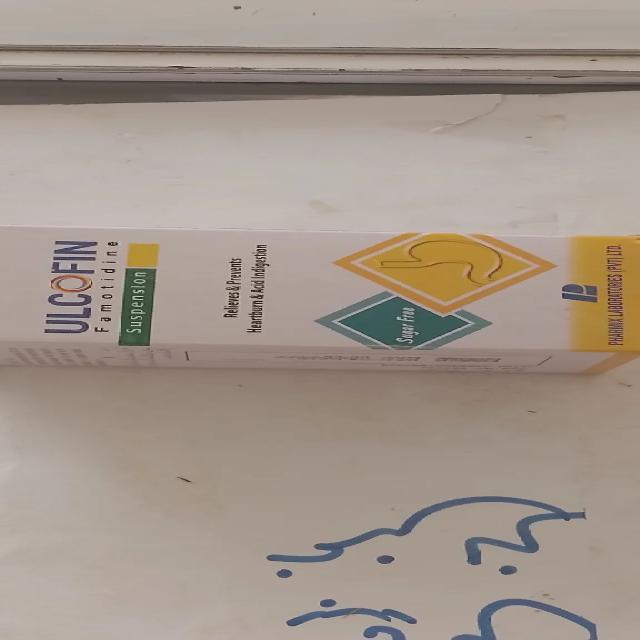drug-name: (43, 235, 103, 337)
